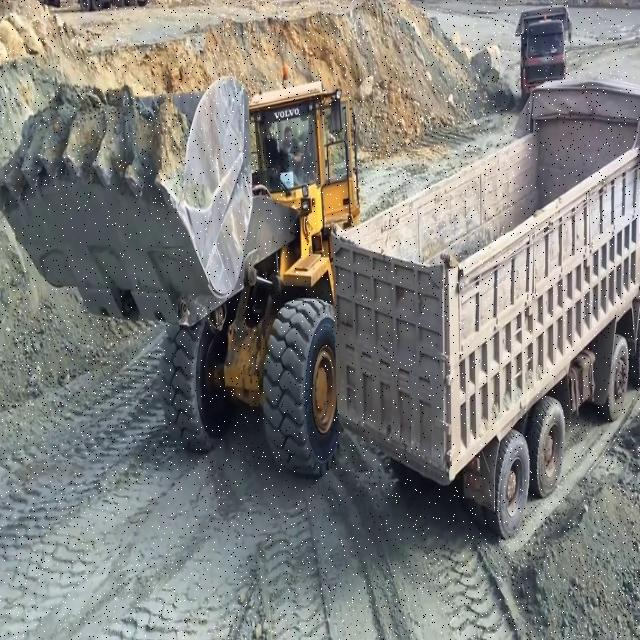Dump Truck: (331, 70, 640, 524), (516, 0, 570, 97), (63, 0, 155, 22)
Loader: (1, 59, 364, 478)
